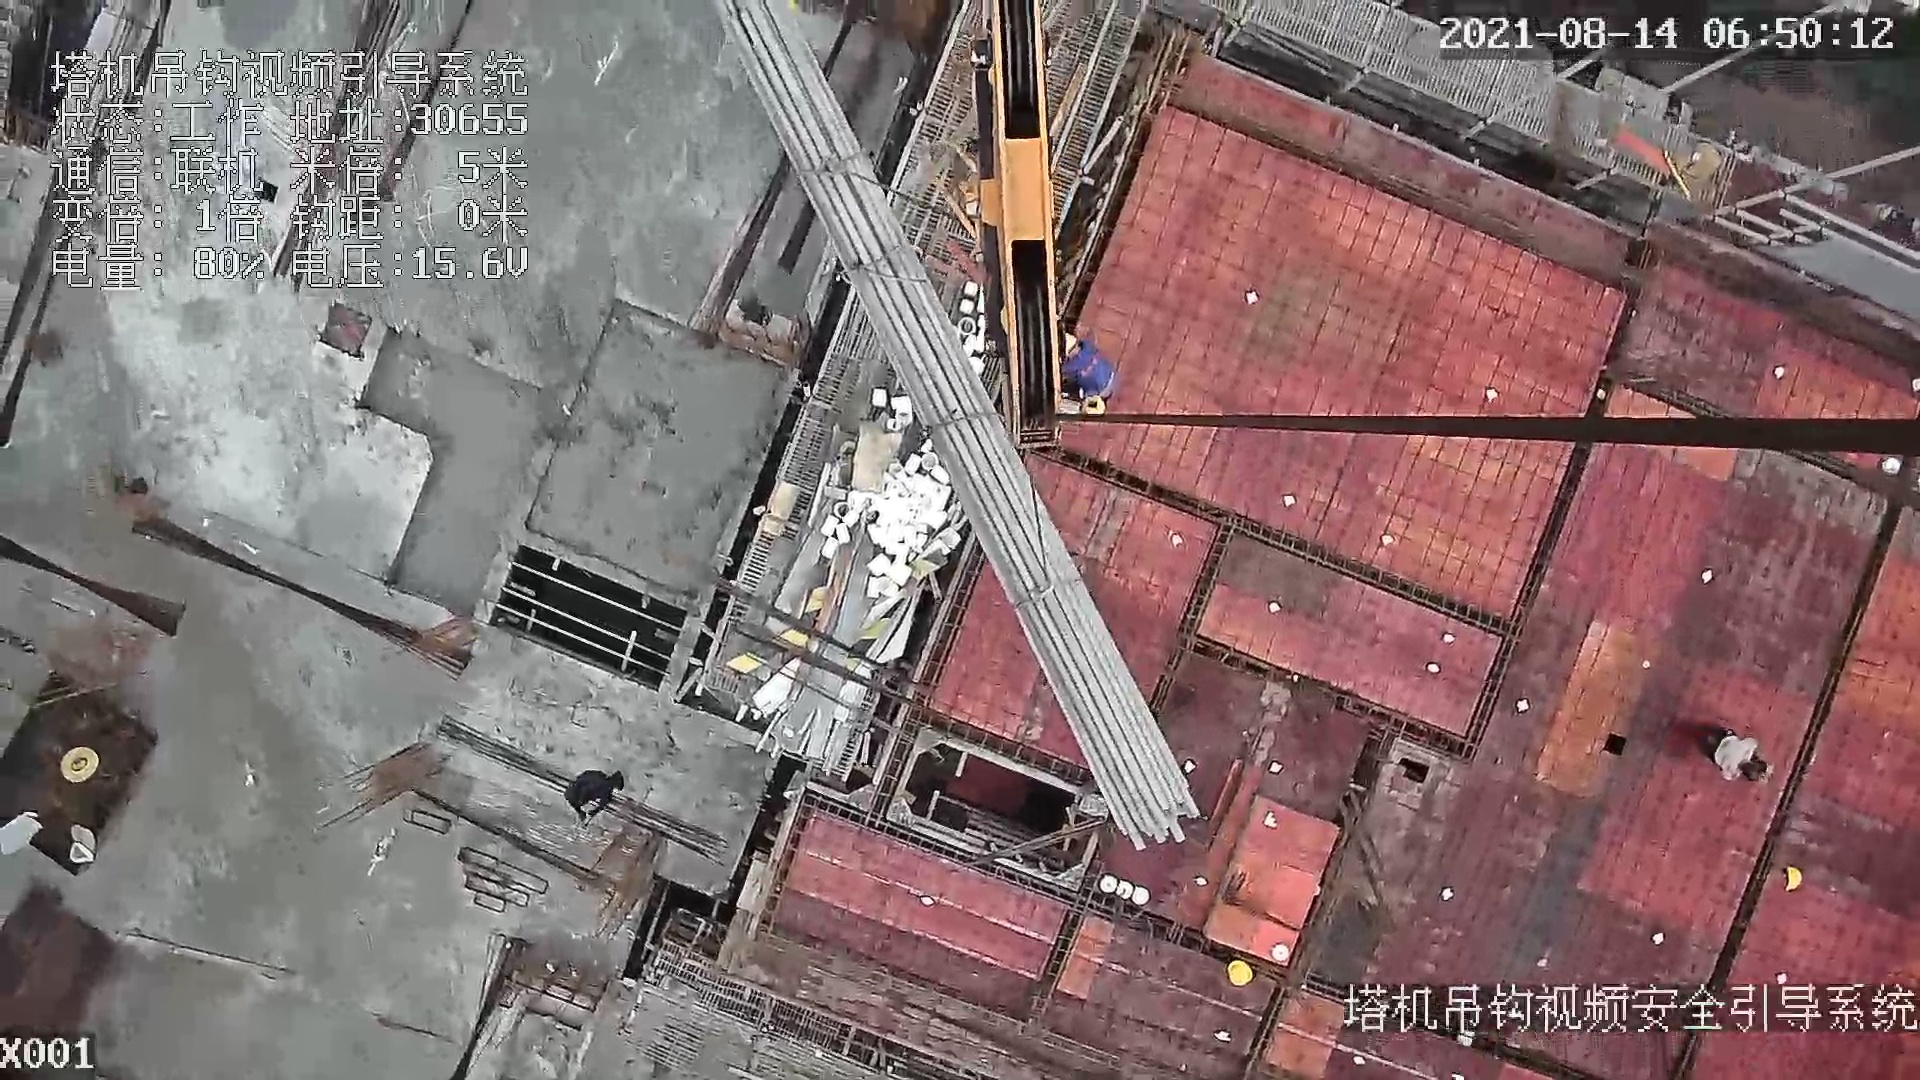helmet: (1775, 859, 1819, 907), (1220, 951, 1265, 991)
hook: (915, 1, 1076, 447)
person: (1687, 714, 1772, 789), (1053, 331, 1118, 406), (565, 763, 631, 823)
